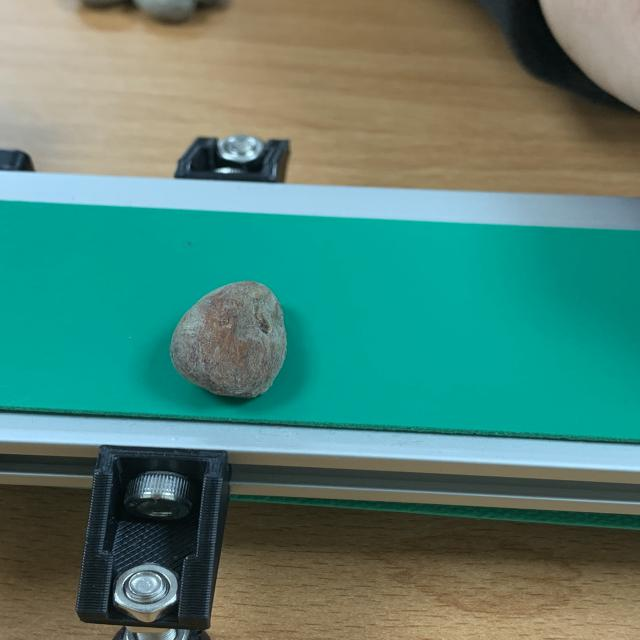Fine_cocoabeans: (134, 246, 356, 441)
